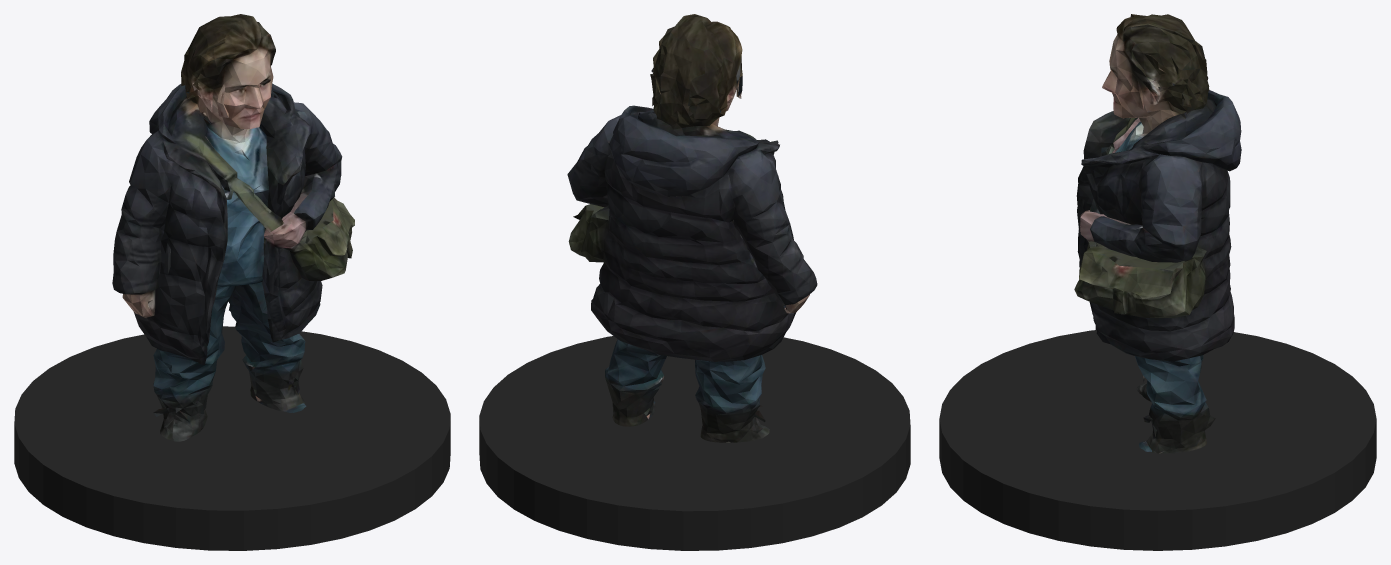
Rendered from janet-taylor.glb.
3 renders of one model, left to right at view 1: azimuth 30°, elevation 25°; view 2: azimuth 150°, elevation 25°; view 3: azimuth 270°, elevation 25°, orthographic.
Parts seen in each view (by area): view 1: base, figure; view 2: base, figure; view 3: base, figure.
Boxes of the visible parts, box(x1,y1,x2,y2) form: base: box(14, 326, 450, 550); figure: box(112, 14, 354, 441); base: box(479, 336, 910, 550); figure: box(567, 14, 817, 442); base: box(939, 330, 1376, 550); figure: box(1074, 14, 1241, 453).
Size of the model in its own units: 1.18 by 1.32 by 1.18.
2 materials, 1 textured.
